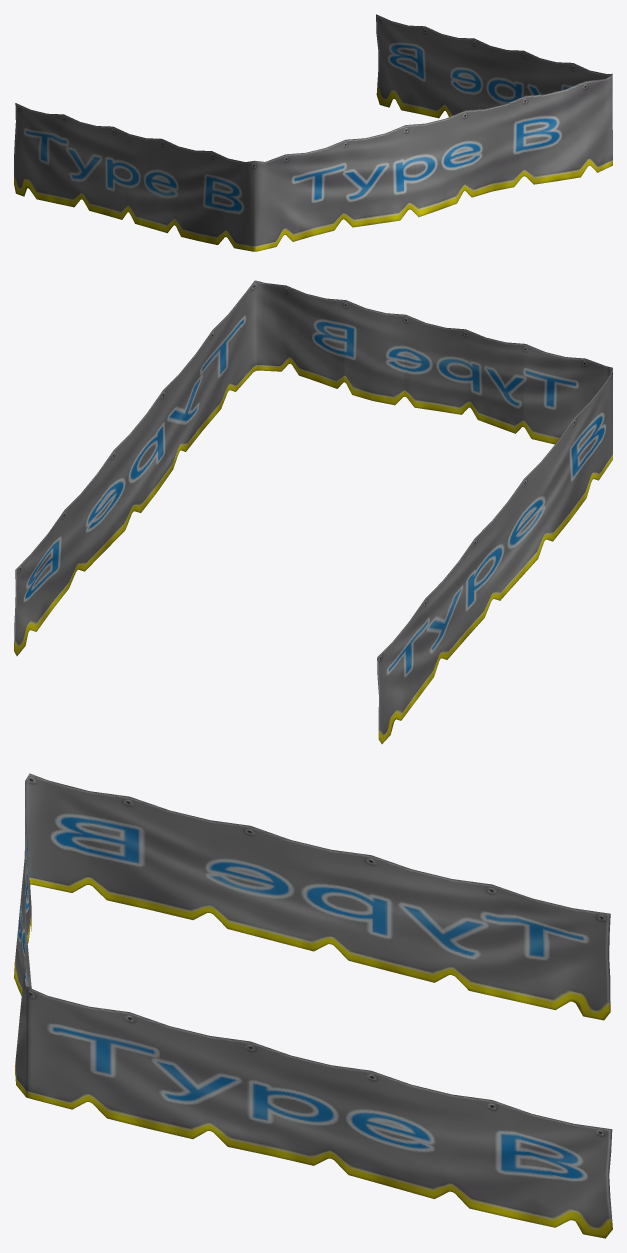
File: jsf_ShopCurtain_b_s01.fbx
3 views of the same model, one above another, from view 1: azimuth 30°, elevation 25°; view 2: azimuth 150°, elevation 25°; view 3: azimuth 270°, elevation 25° (orthographic). The views are drawn at different scales.
Visible parts, largest first — view 1: jsf_ShopCurtain_b_s01; view 2: jsf_ShopCurtain_b_s01; view 3: jsf_ShopCurtain_b_s01.
Boxes of the visible parts, <box> form: jsf_ShopCurtain_b_s01: <box>14,14,612,251</box>; jsf_ShopCurtain_b_s01: <box>14,280,612,743</box>; jsf_ShopCurtain_b_s01: <box>14,773,612,1238</box>.
Size of the model in its own units: 188 by 99.6 by 216.
